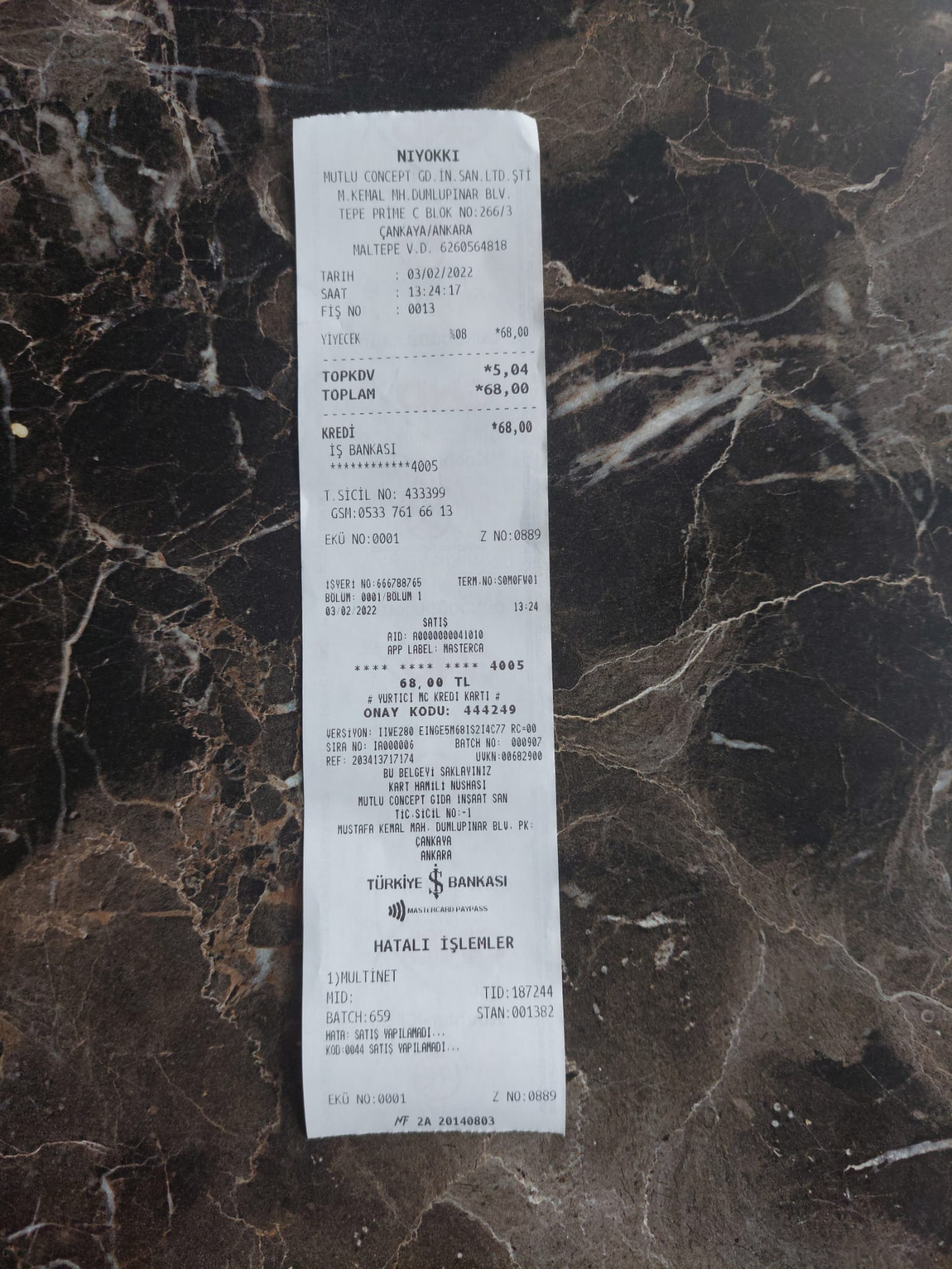date: (481, 378, 536, 398)
price: (402, 262, 478, 283)
workplace: (319, 142, 540, 241)
